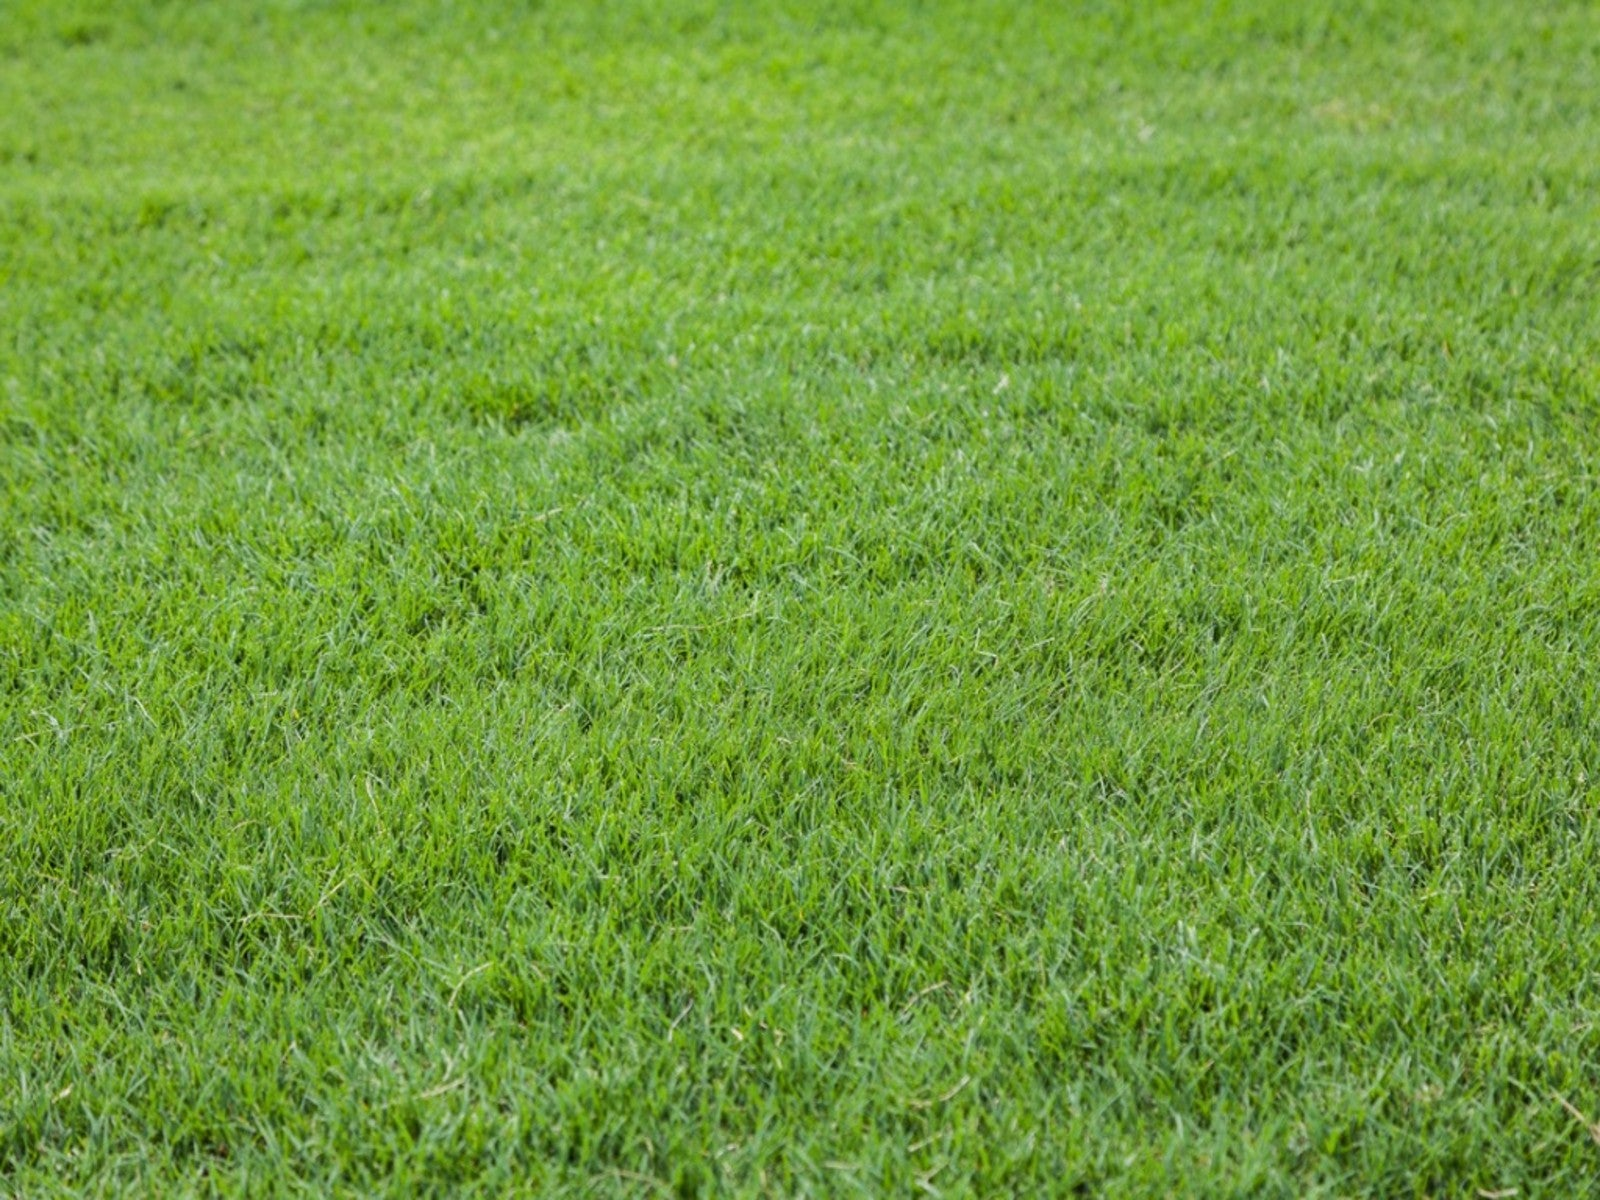grass: (5, 4, 1600, 1192)
